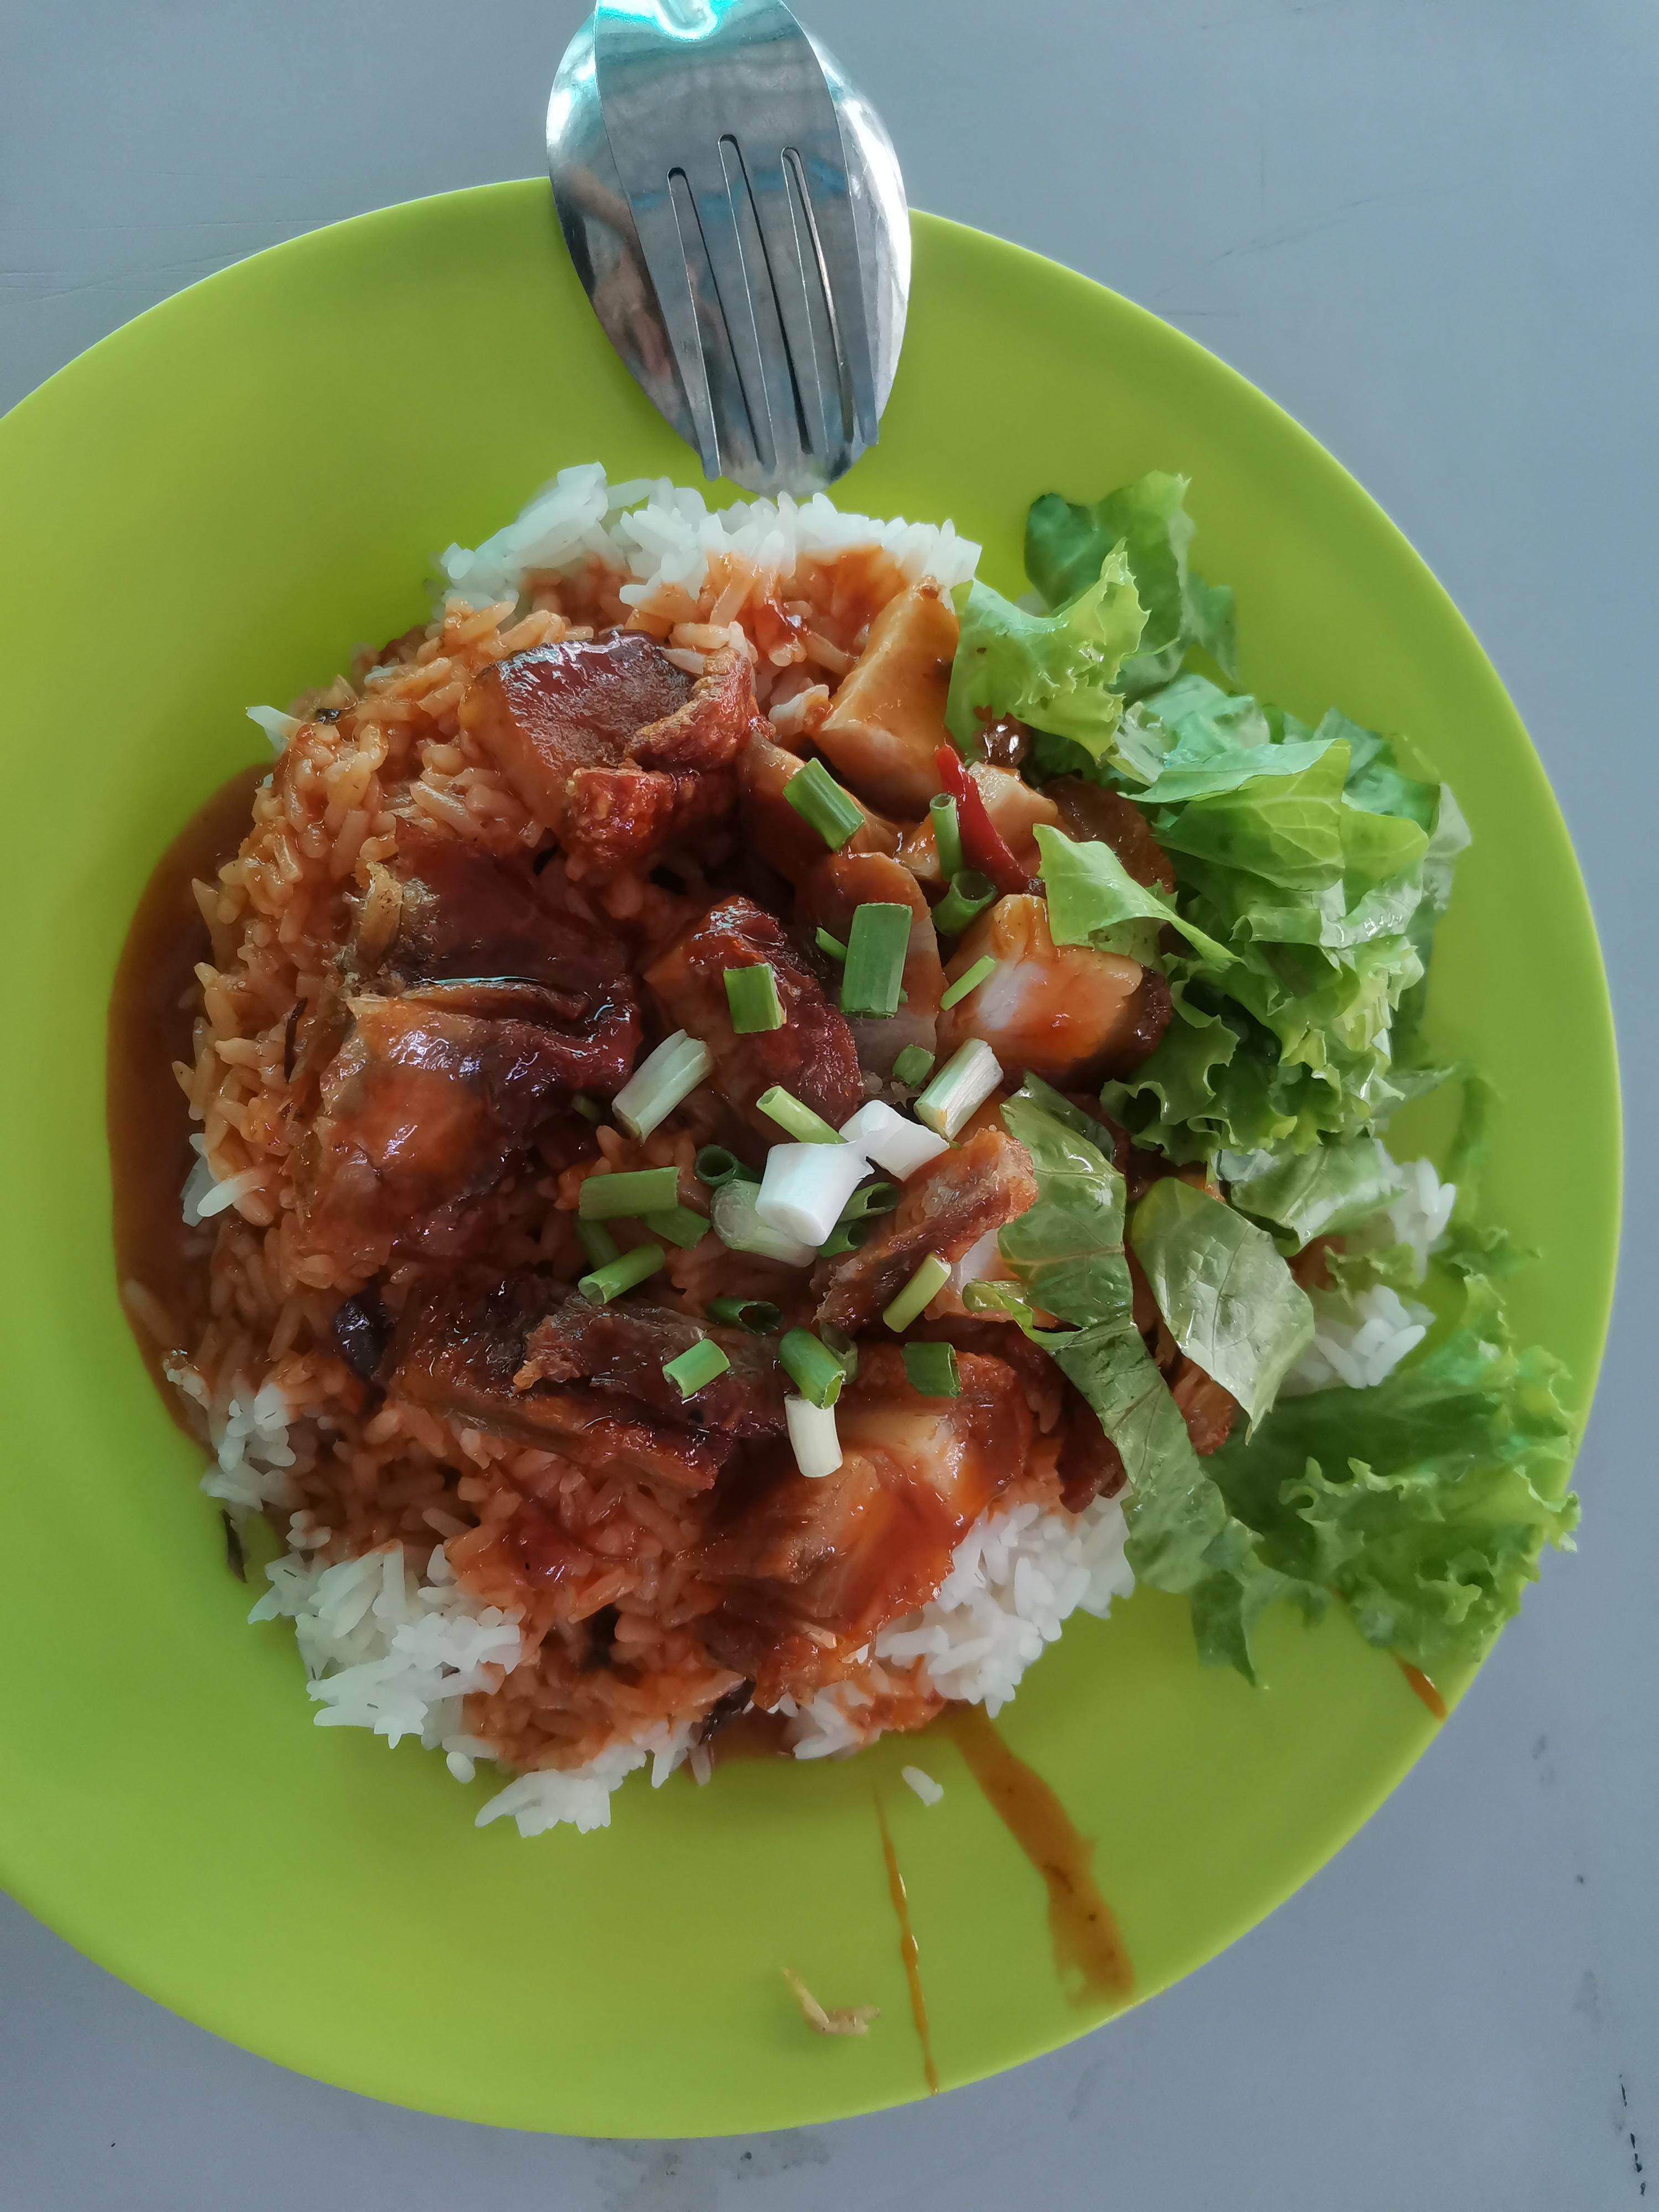carbohydrate: (186, 469, 1208, 1815)
meat: (429, 660, 1162, 1581)
vegetable: (1019, 505, 1554, 1702)
